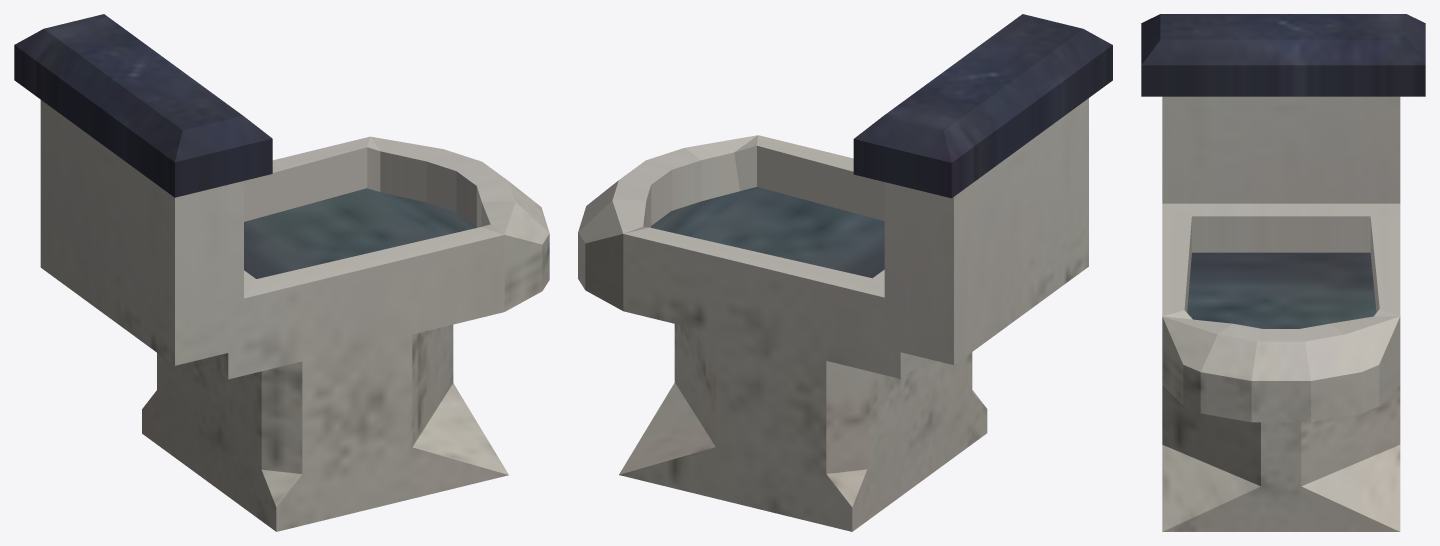
The model's file is toilet.fbx.
3 renders of one model, left to right at view 1: azimuth 30°, elevation 25°; view 2: azimuth 150°, elevation 25°; view 3: azimuth 270°, elevation 25°, orthographic. The views are drawn at different scales.
Visible parts, largest first — view 1: Cube.001; view 2: Cube.001; view 3: Cube.001.
Boxes of the visible parts, x1,y1,x2,y2 form: Cube.001: (14, 14, 549, 531); Cube.001: (578, 14, 1112, 531); Cube.001: (1141, 14, 1425, 531).
Bounding box in the file's own units: 73.72 × 69.86 × 47.79.
